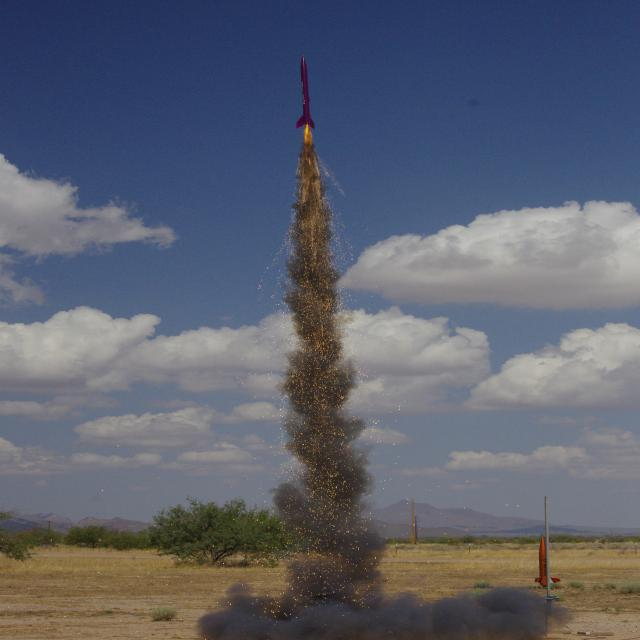Rocket: (295, 54, 315, 130), (534, 537, 562, 587)
